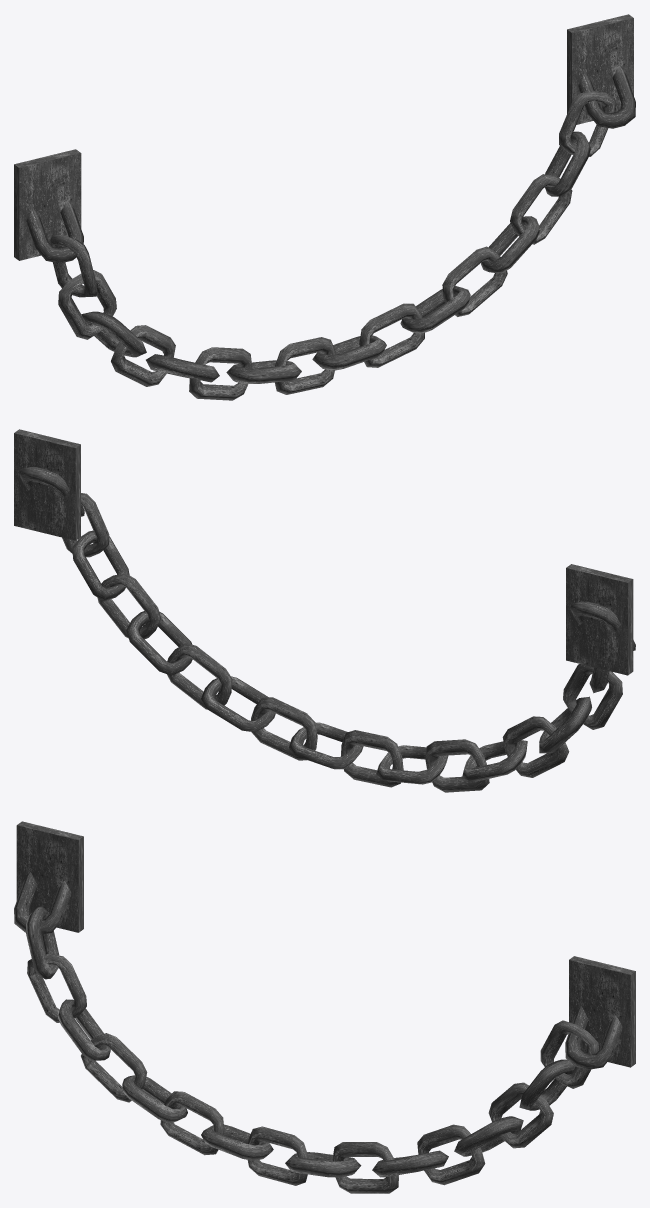
Rendered from chain1full.obj.
3 views of the same model, one above another, from view 1: azimuth 30°, elevation 25°; view 2: azimuth 150°, elevation 25°; view 3: azimuth 330°, elevation 25° (orthographic).
Parts seen in each view (by area): view 1: chain, cubes; view 2: chain, cubes; view 3: chain, cubes.
Boxes of the visible parts, box(x1,y1,x2,y2) form: chain: box(26, 65, 635, 400); cubes: box(14, 14, 633, 260); chain: box(19, 467, 635, 792); cubes: box(14, 429, 633, 675); chain: box(14, 872, 622, 1193); cubes: box(16, 821, 635, 1067).
Bounding box in the file's own units: 21.34 × 9.33 × 2.55.
Materials: 1 (1 with a texture image).
